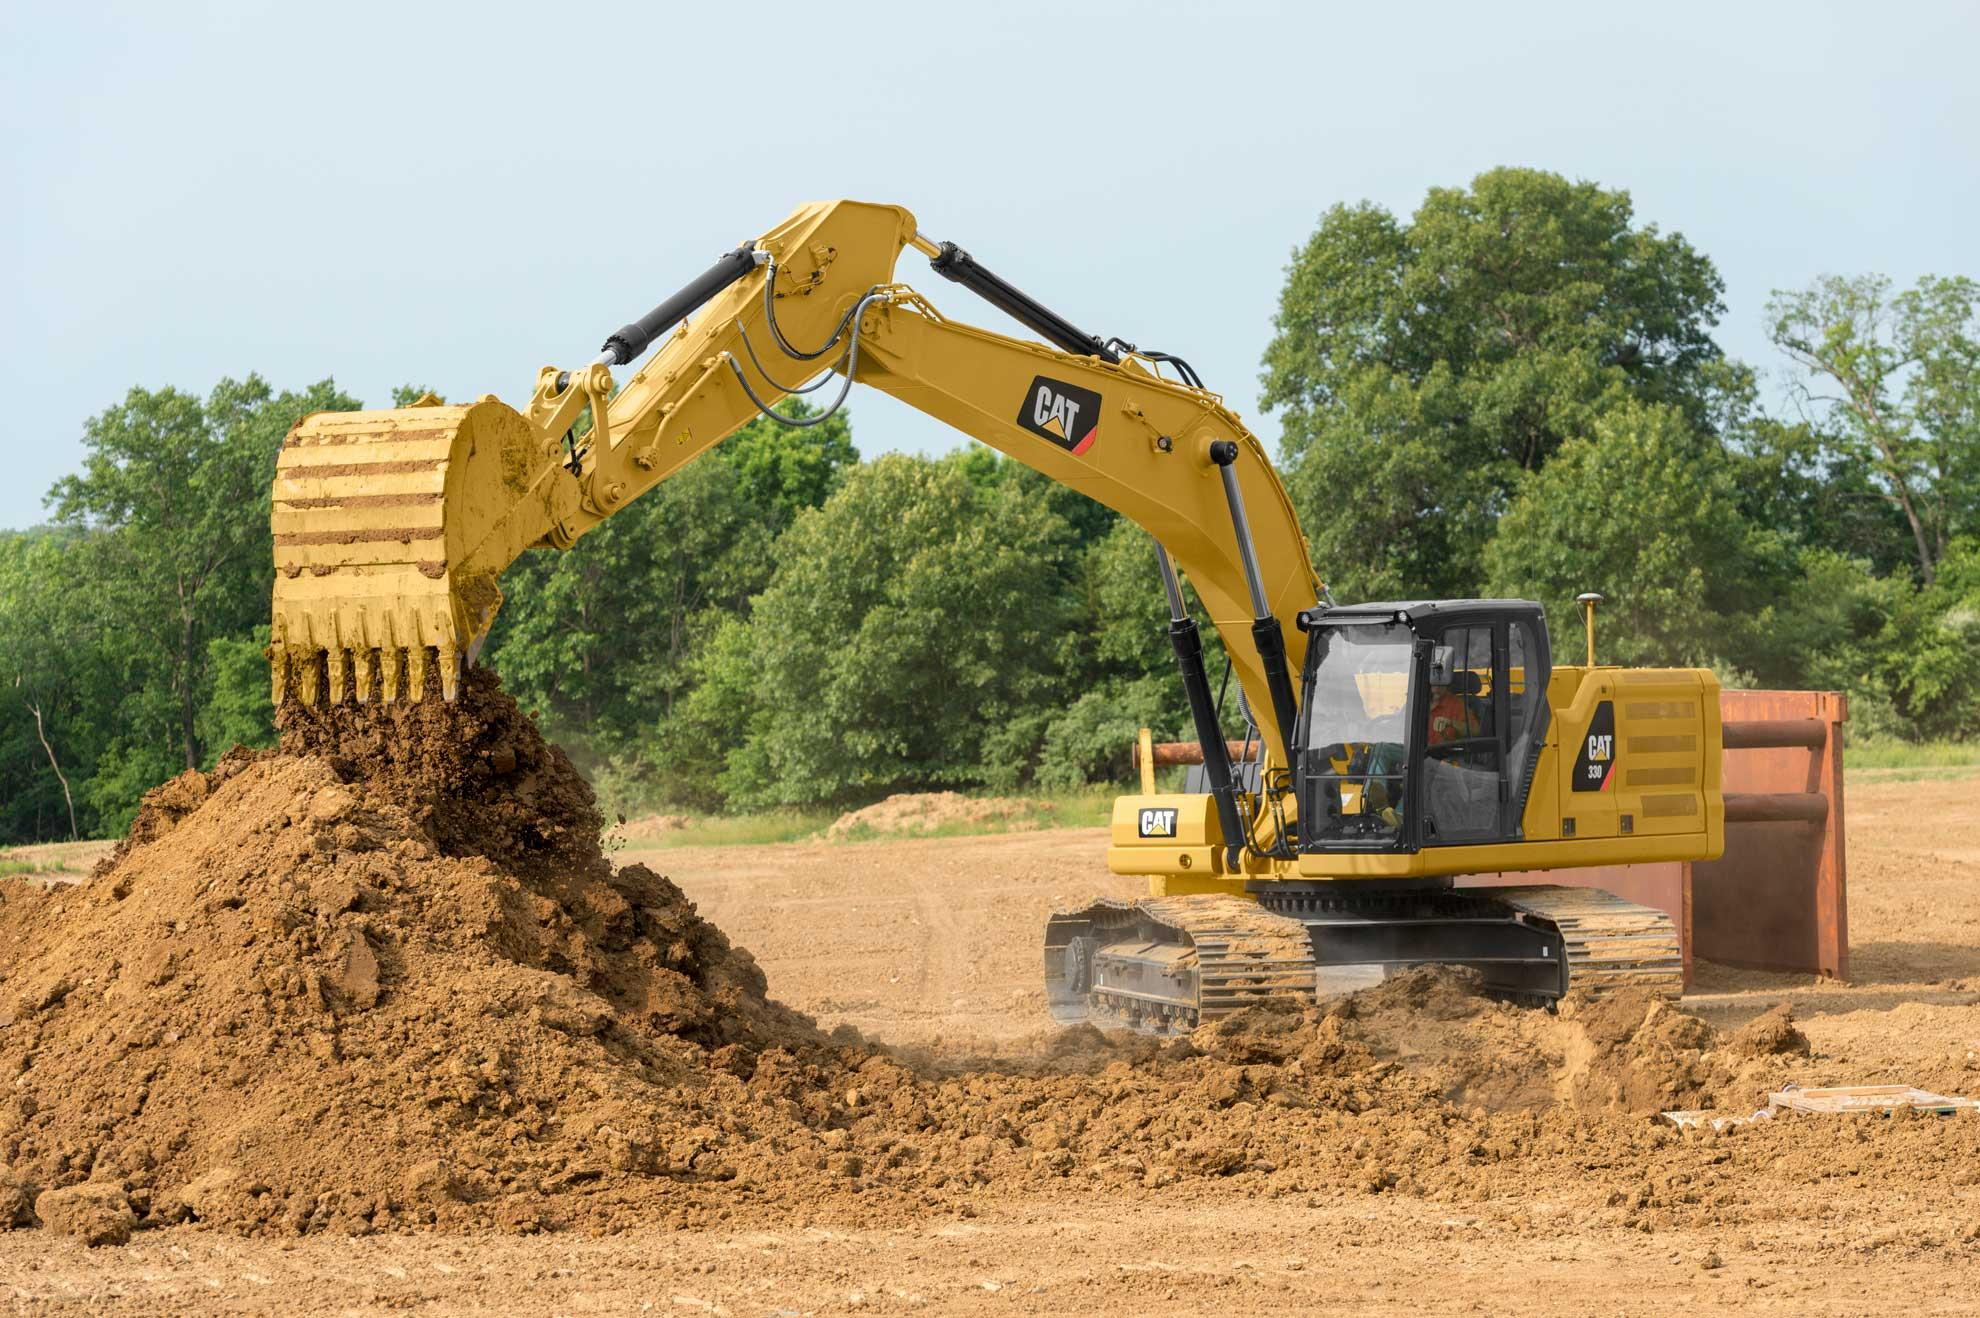excavator: (277, 207, 1724, 841)
